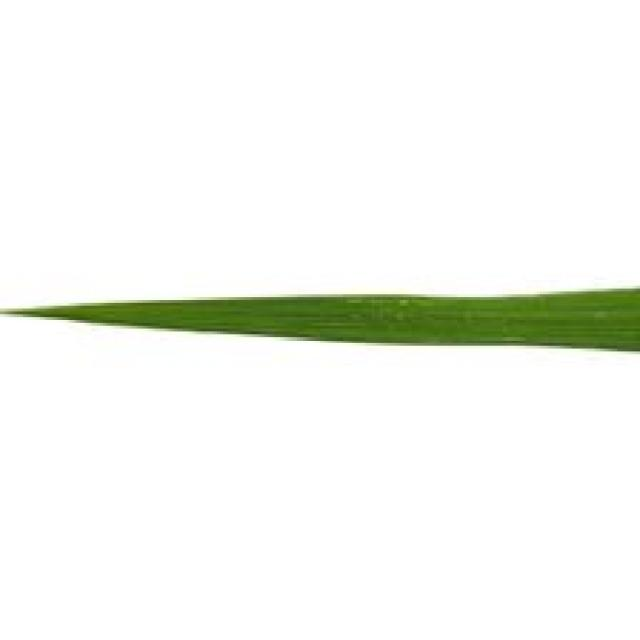Rice___Healthy_Rice_Plant: (0, 288, 637, 353)
